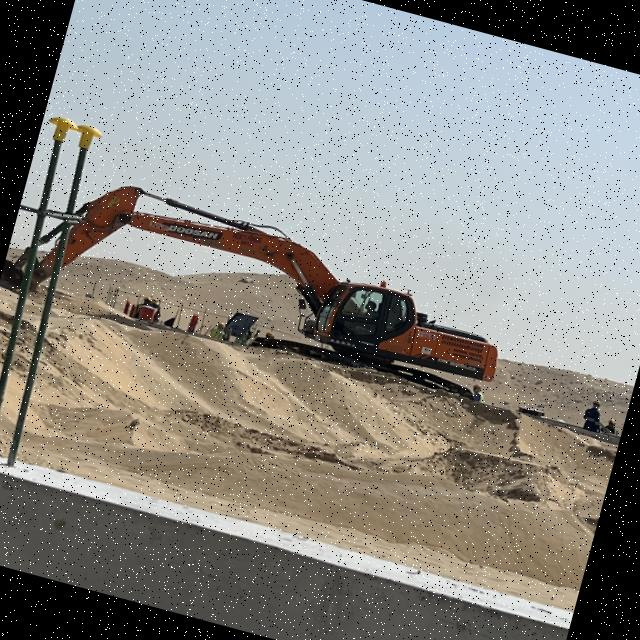Excavator: (0, 152, 521, 445)
